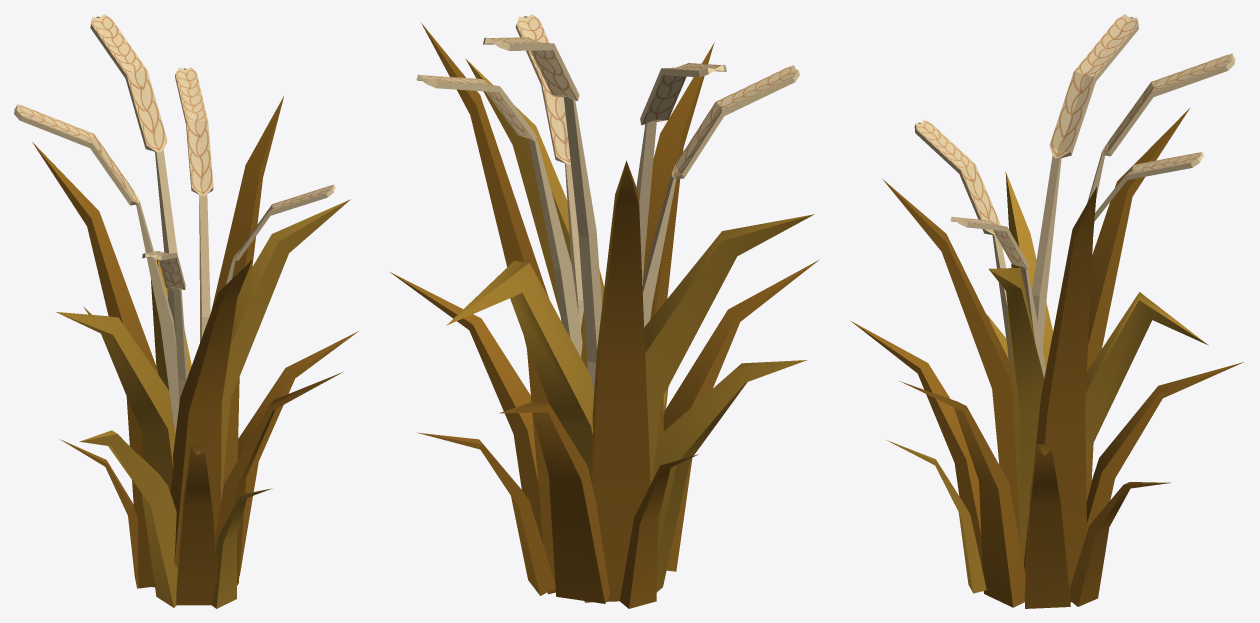
File: M_Flour.FBX
3 views of the same model, side by side, from view 1: azimuth 30°, elevation 25°; view 2: azimuth 150°, elevation 25°; view 3: azimuth 270°, elevation 25° (orthographic). The views are drawn at different scales.
Parts seen in each view (by area): view 1: Pyramid014, Pyramid015, Box009, Box011, Box013, Box010, Box012; view 2: Pyramid014, Pyramid015, Box009, Box013, Box010, Box011, Box012; view 3: Pyramid014, Pyramid015, Box011, Box010, Box009, Box012, Box013.
Part boxes in pixels (box(x1,y1,x2,y2)): Pyramid014: box(32, 96, 358, 605); Pyramid015: box(56, 199, 350, 608); Box009: box(90, 14, 183, 336); Box011: box(14, 104, 179, 432); Box013: box(175, 67, 213, 342); Box010: box(142, 251, 188, 402); Box012: box(226, 184, 335, 284); Pyramid014: box(390, 23, 818, 608); Pyramid015: box(446, 58, 814, 592); Box009: box(483, 37, 601, 392); Box013: box(416, 74, 582, 357); Box010: box(642, 65, 799, 327); Box011: box(636, 63, 726, 285); Box012: box(515, 14, 583, 329); Pyramid014: box(851, 107, 1243, 608); Pyramid015: box(886, 172, 1208, 593); Box011: box(1032, 14, 1138, 349); Box010: box(914, 120, 1010, 369); Box009: box(1087, 53, 1235, 203); Box012: box(950, 216, 1045, 378); Box013: box(1094, 152, 1204, 221).
Size of the model in its own units: 227 by 341 by 227.
Materials: 3 (1 with a texture image).
